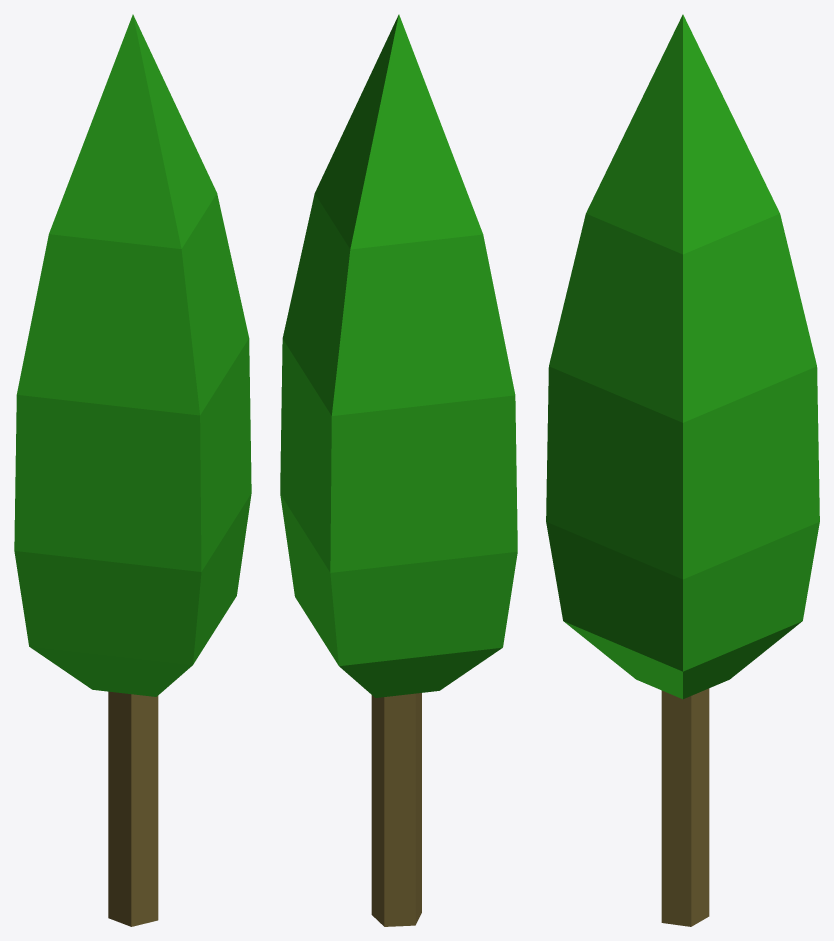
The model's file is TreeShape1_Light.fbx.
3 views of the same model, side by side, from view 1: azimuth 30°, elevation 25°; view 2: azimuth 150°, elevation 25°; view 3: azimuth 270°, elevation 25° (orthographic).
Visible parts, largest first — view 1: TreeShape1_Light; view 2: TreeShape1_Light; view 3: TreeShape1_Light.
Boxes of the visible parts, box(x1,y1,x2,y2) form: TreeShape1_Light: box(14, 14, 251, 926); TreeShape1_Light: box(280, 14, 517, 926); TreeShape1_Light: box(546, 14, 819, 926).
Bounding box in the file's own units: 119 × 431 × 119.
